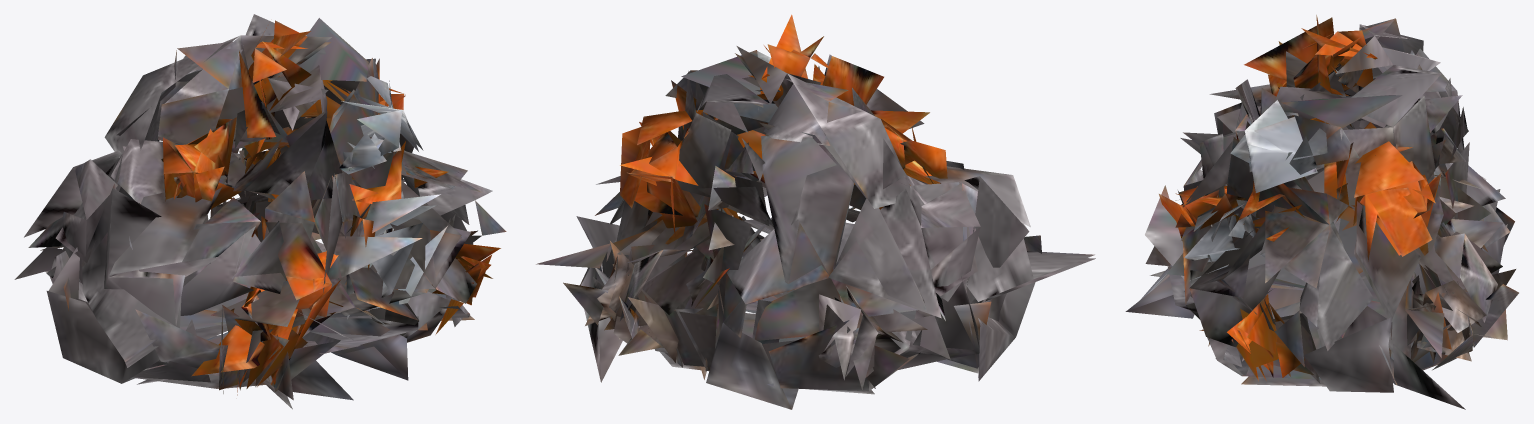
The model's file is node-metal-lod1.glb.
The picture shows the model from 3 angles, left to right: view 1: azimuth 30°, elevation 25°; view 2: azimuth 150°, elevation 25°; view 3: azimuth 270°, elevation 25°; orthographic projection. The views are drawn at different scales.
Visible parts, largest first — view 1: node-metal; view 2: node-metal; view 3: node-metal.
Boxes of the visible parts, <box> form: node-metal: <box>14,14,506,409</box>; node-metal: <box>536,14,1095,409</box>; node-metal: <box>1125,15,1518,409</box>.
Bounding box in the file's own units: 2.51 × 1.82 × 1.97.
Materials: 1 (1 with a texture image).
